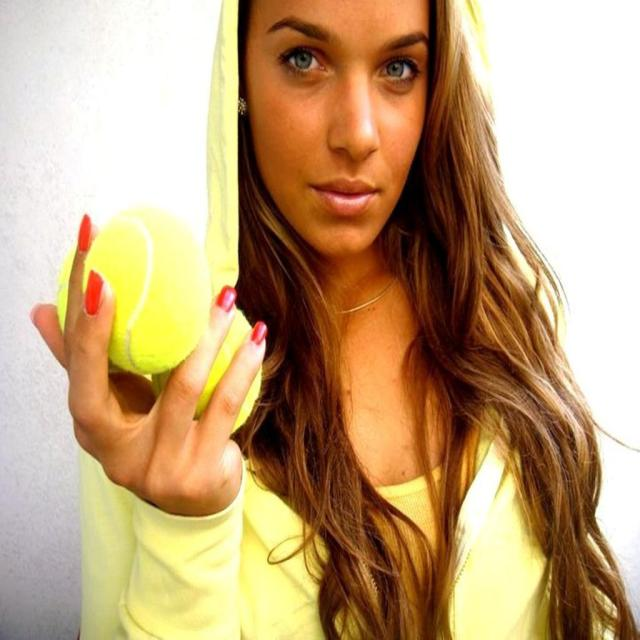Face: (252, 1, 430, 248)
